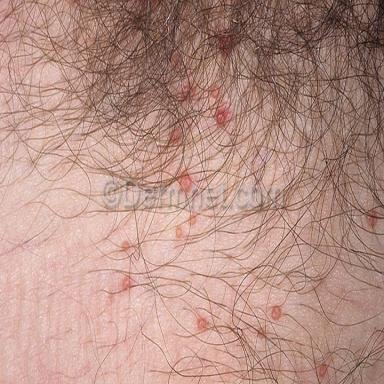Molluscum-Contagiosum: (367, 210, 377, 227), (271, 306, 281, 321), (197, 318, 209, 330), (121, 276, 131, 290), (319, 363, 327, 378), (188, 214, 197, 226), (217, 113, 225, 124), (122, 241, 131, 250), (175, 227, 181, 237), (212, 92, 218, 98)
